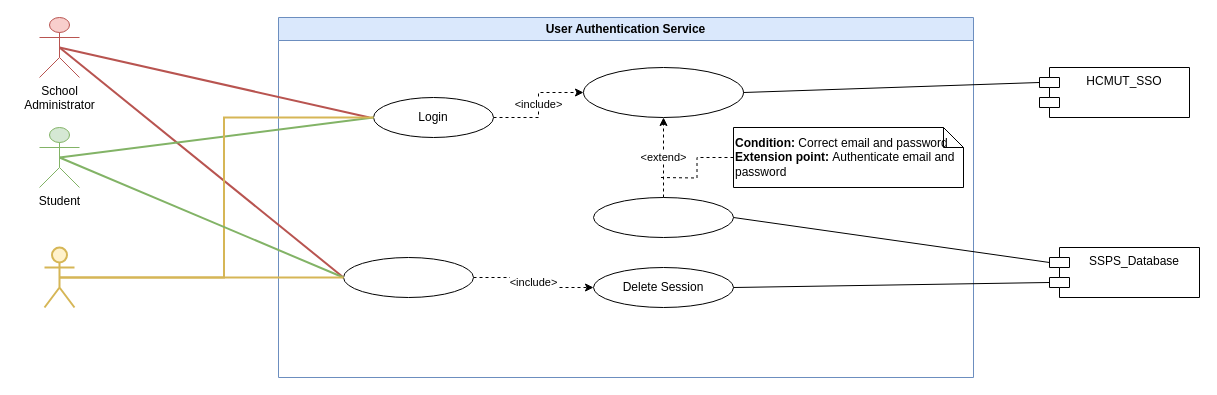
Some shapes in this 1217 by 395 pixel diagram are drawn without their labels. Each missing label, with the centre of its shape:
"Authenticate email and password" goes at (663,92).
"Create Session" goes at (663,217).
"Logout" goes at (408,277).
"Student Printing Service Officer" goes at (59,277).
